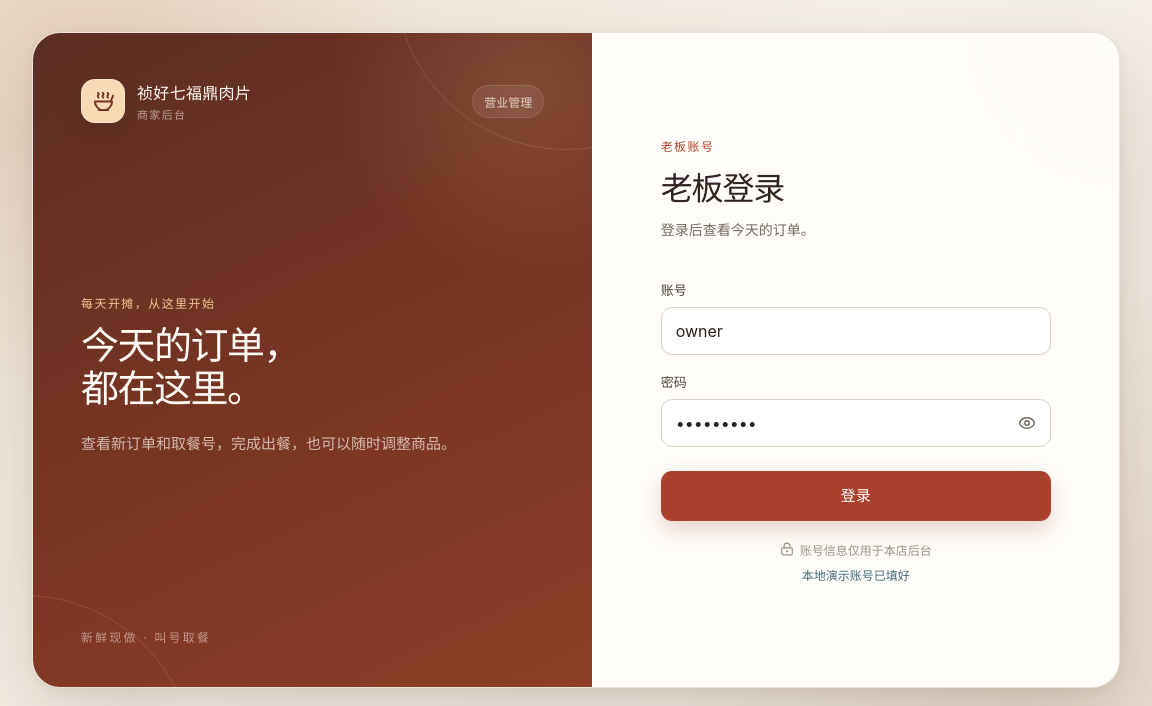
Test: merchant V2 app › announces an older order that enters the waiting queue after a delayed payment
Click the button "登录": (856,496) [661,470,1051,520]
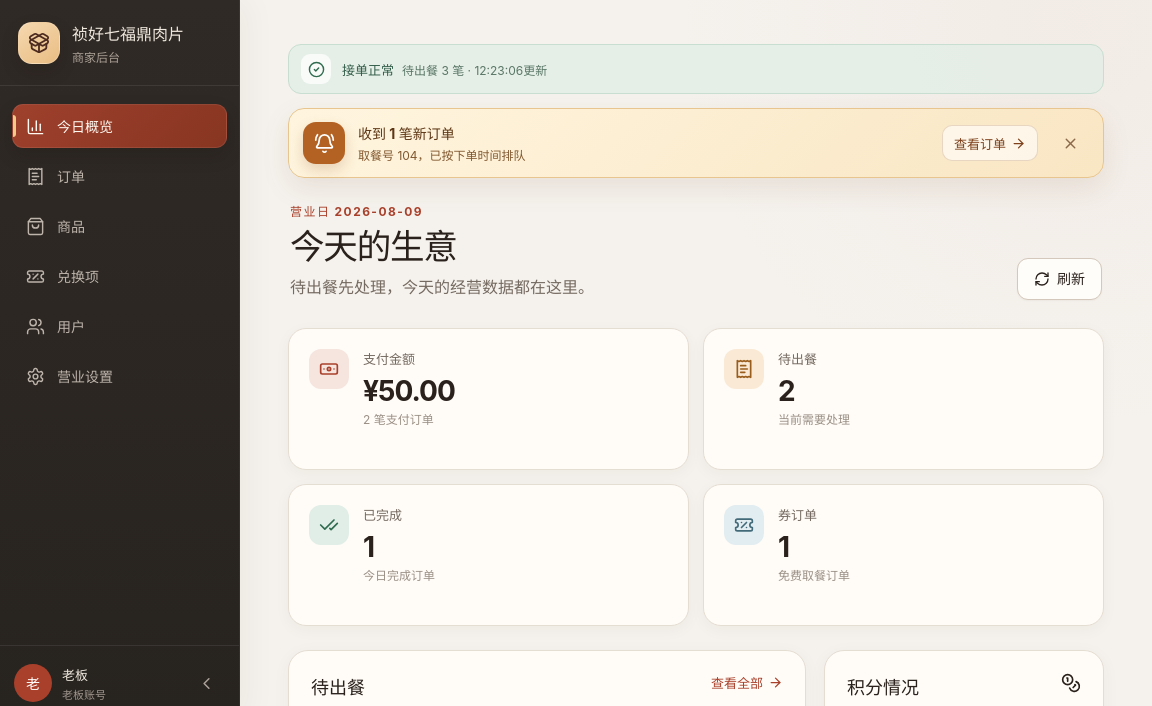
Now the text "收到 1 笔新订单" is shown, box [358,125,455,142]
Now the text "取餐号 104，已按下单时间排队" is shown, box [358,148,526,163]
